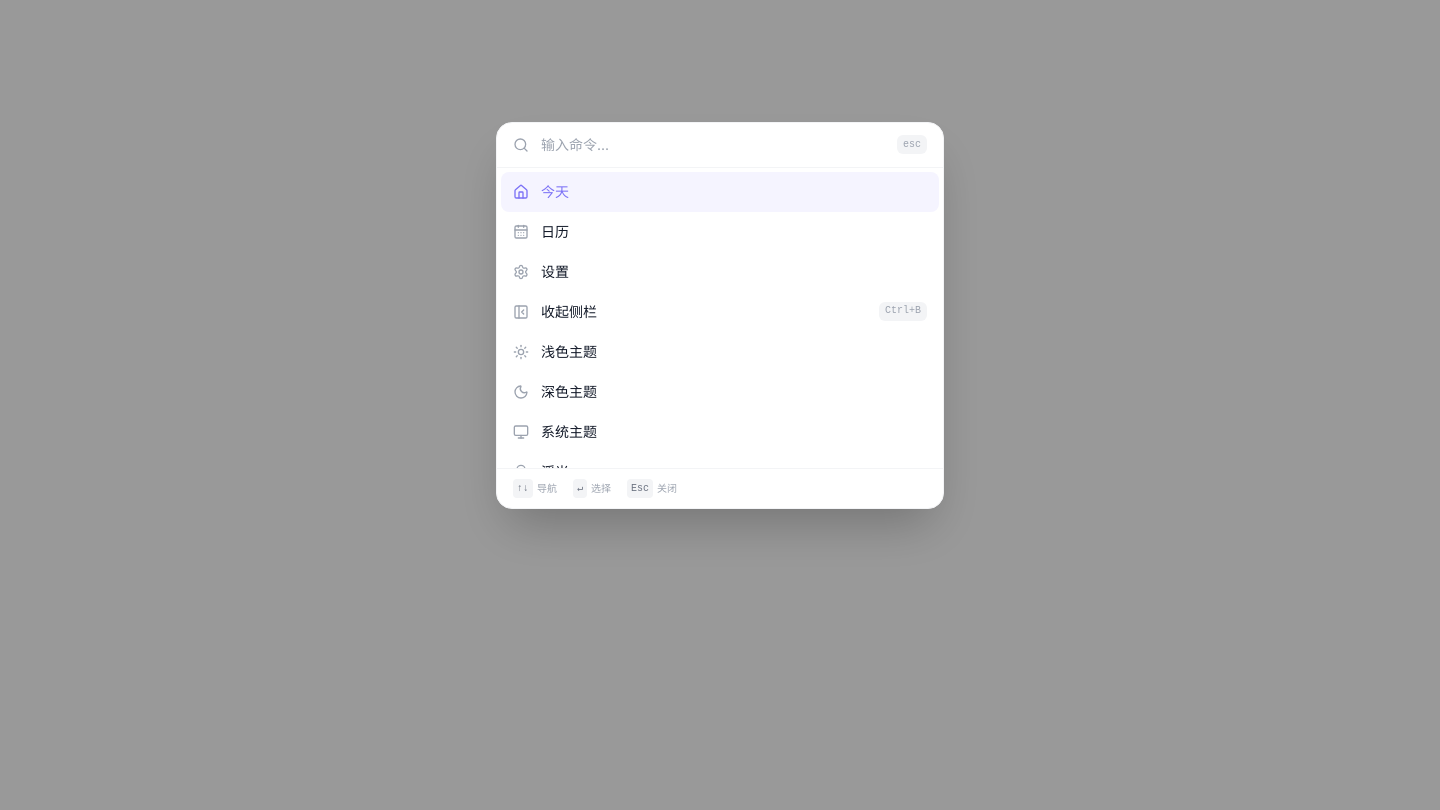
Scenario: CommandPalette › filters commands by search query
Type "深色" into the field with placeholder "输入命令..." at point(713, 144), box [541,134,885,154]
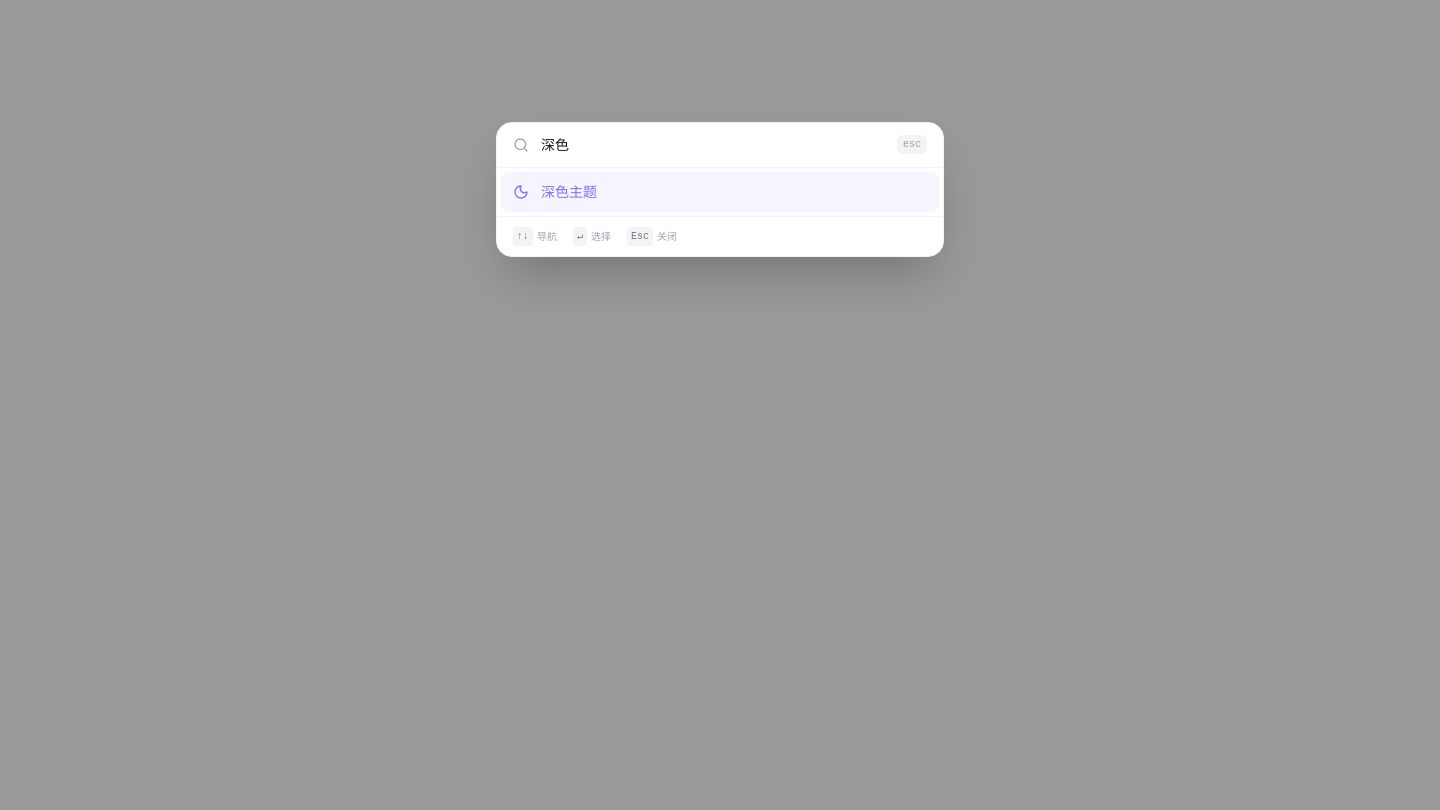
Expected: the text "深色主题" is shown, [541,182,597,200]
Now the button "今天" is gone
